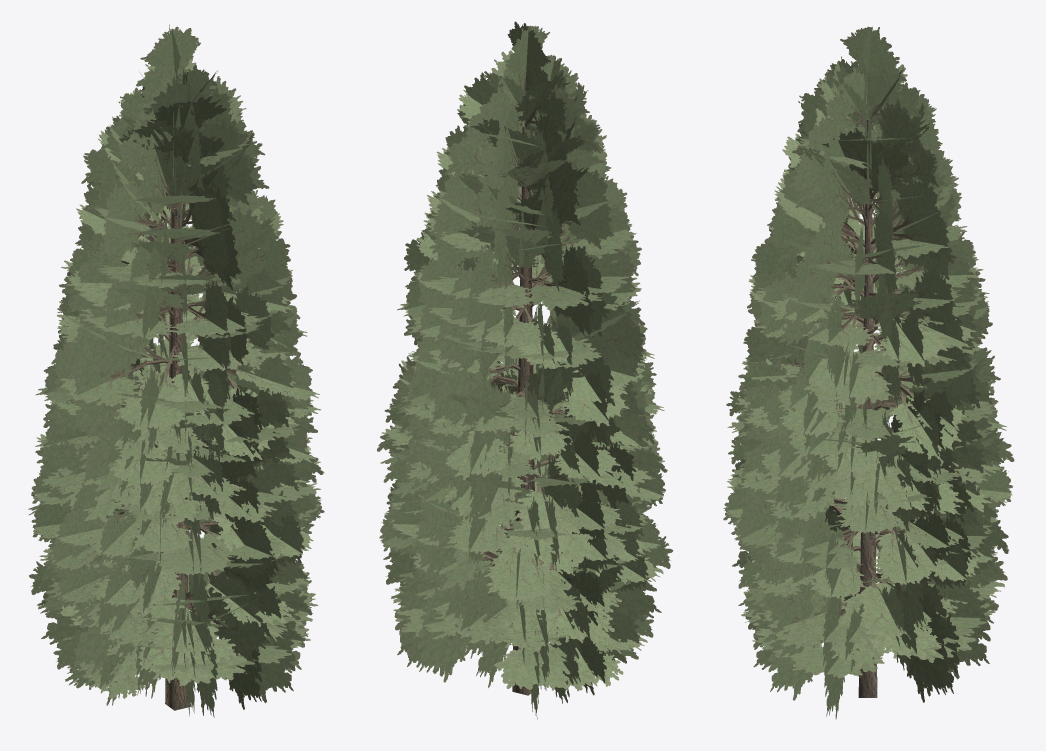
Rendered from CalocedrusDecurrens.glb.
The picture shows the model from 3 angles, left to right: view 1: azimuth 30°, elevation 25°; view 2: azimuth 150°, elevation 25°; view 3: azimuth 270°, elevation 25°; orthographic projection.
Parts seen in each view (by area): view 1: California_Incense_Cedar__Realistic_LOD3; view 2: California_Incense_Cedar__Realistic_LOD3; view 3: California_Incense_Cedar__Realistic_LOD3.
Boxes of the visible parts, box(x1,y1,x2,y2) form: California_Incense_Cedar__Realistic_LOD3: box(28, 24, 324, 717); California_Incense_Cedar__Realistic_LOD3: box(377, 21, 673, 719); California_Incense_Cedar__Realistic_LOD3: box(723, 26, 1014, 719).
Bounding box in the file's own units: 8.73 × 20.98 × 9.04.
Materials: 1 (1 with a texture image).
